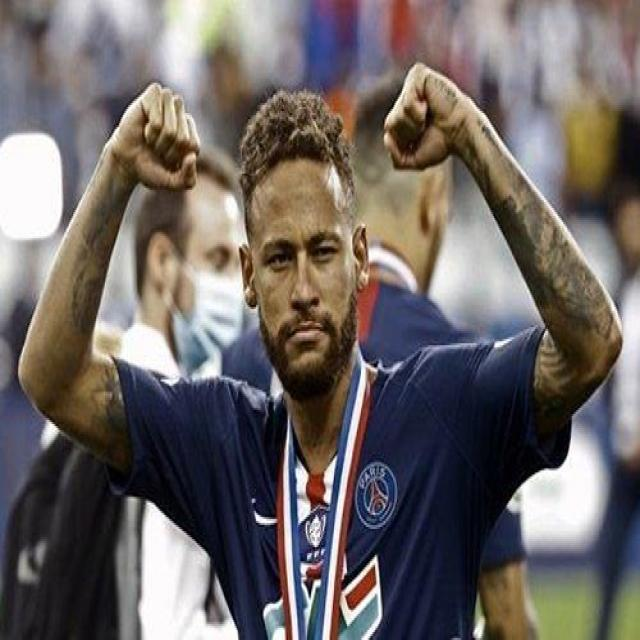neymar: (235, 142, 377, 392)
